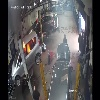fire: (23, 37, 37, 56)
